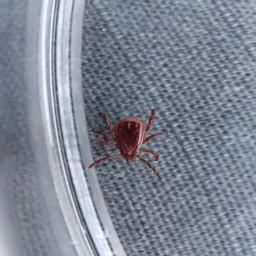Rhipicephalus sanguineus: (87, 109, 164, 179)
